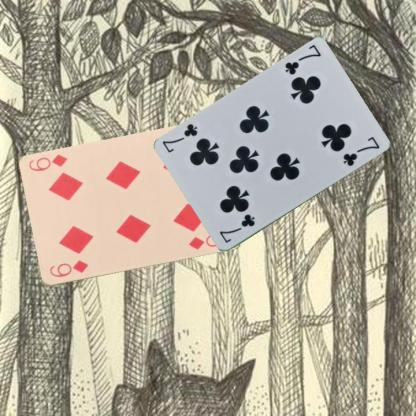6d: (46, 258, 90, 279)
7c: (282, 42, 322, 77), (216, 212, 257, 245)
